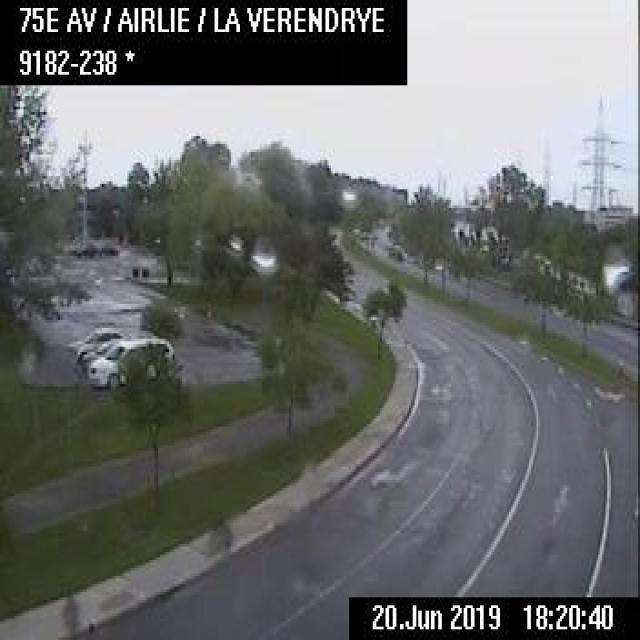vehicle: (85, 335, 174, 386), (66, 326, 120, 367), (80, 335, 119, 373)
